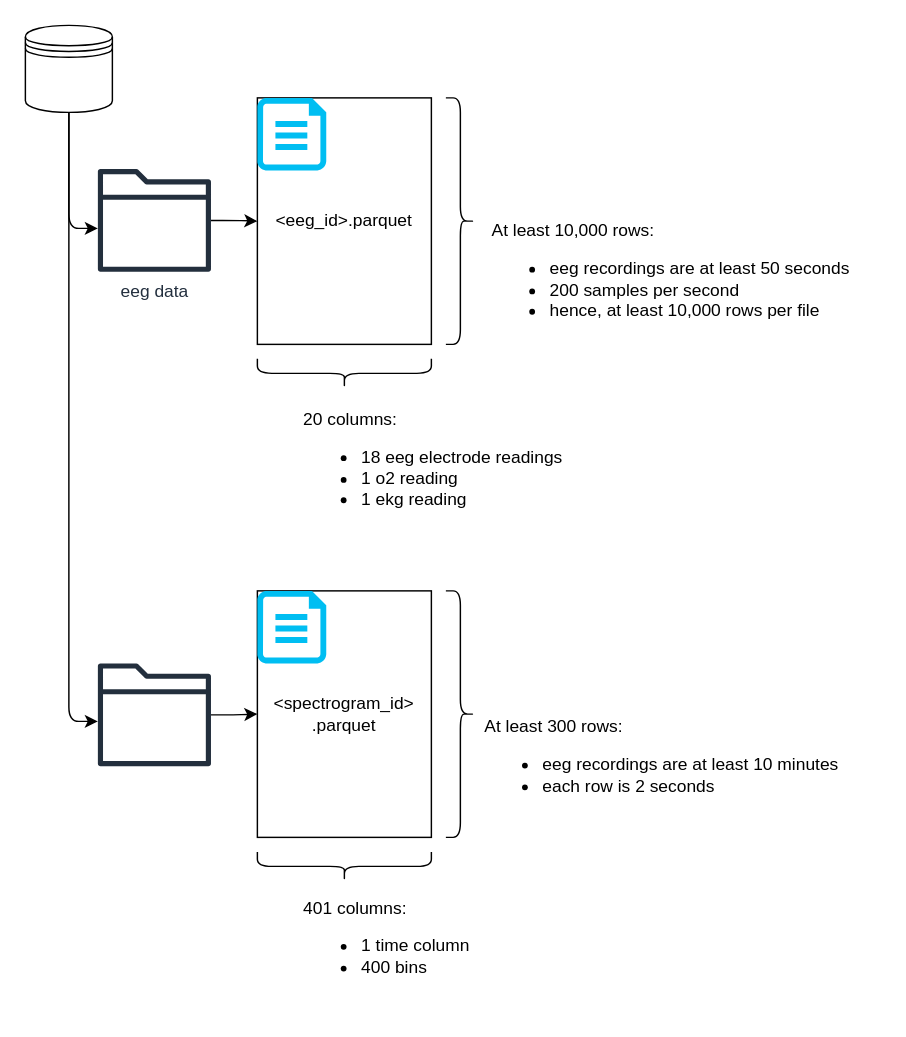
Some shapes in this 906 by 1037 pixel diagram are drawn without their labels. Each missing label, with the centre of its shape:
"data" goes at point (68, 68).
"spectrogram data" goes at point (153, 714).
